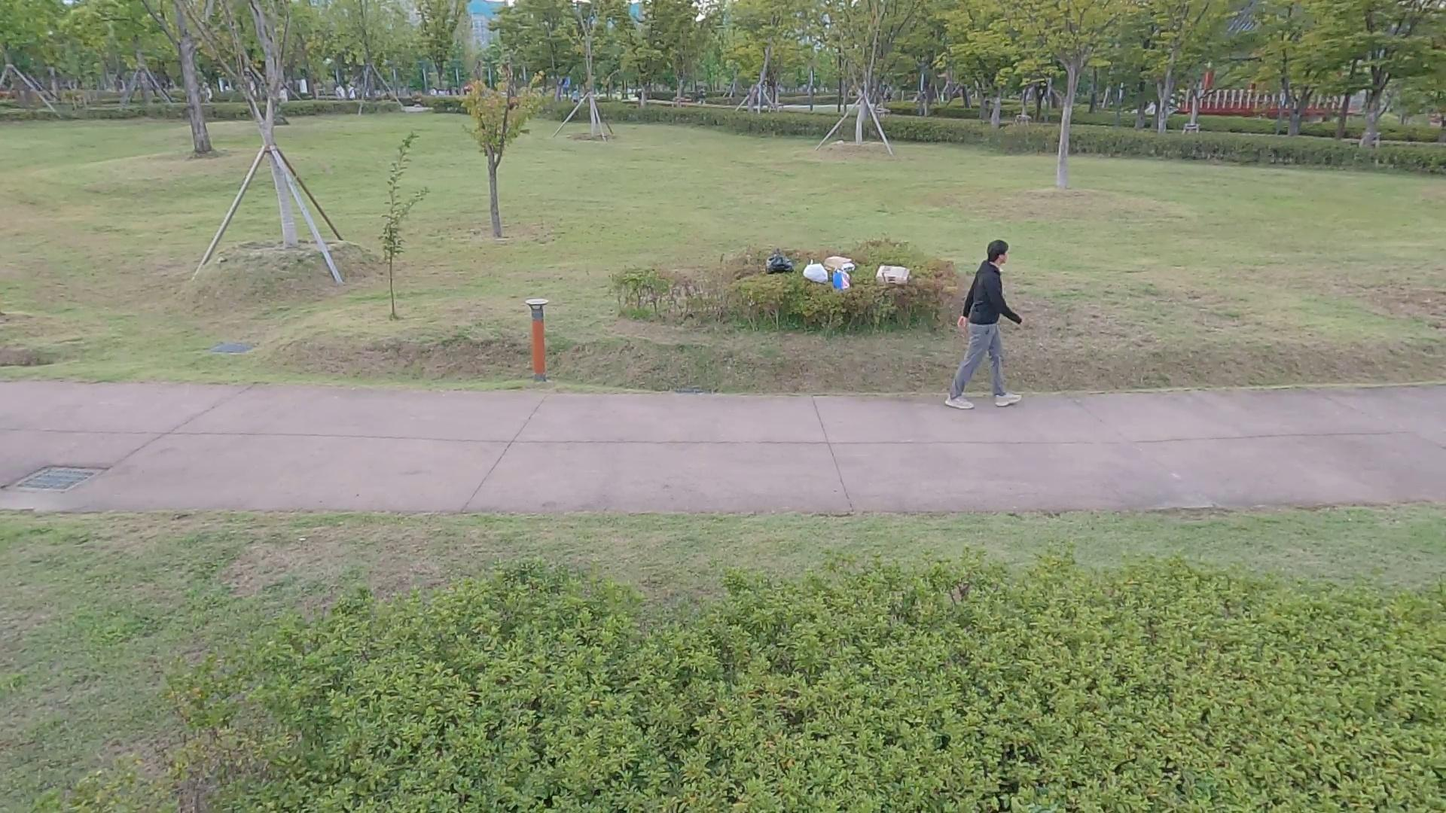person: (942, 237, 1028, 413)
trash: (873, 264, 914, 287), (764, 248, 795, 275), (822, 254, 858, 277), (802, 257, 827, 286), (831, 264, 853, 292)
